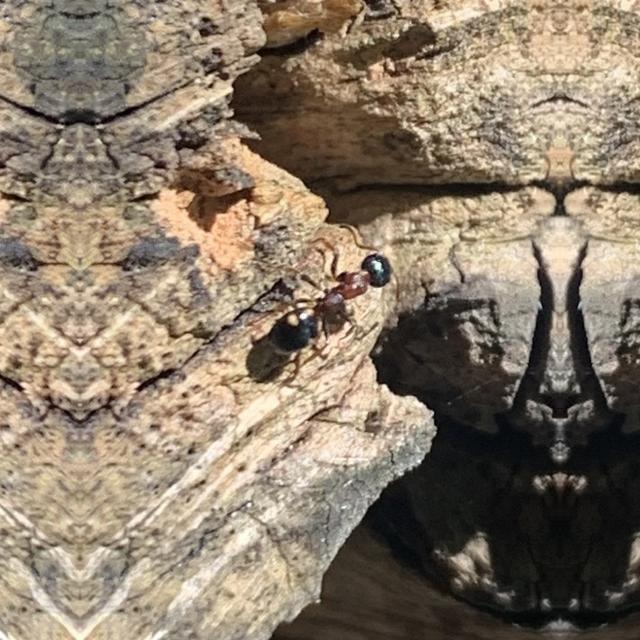Dolichoderus: (246, 212, 414, 390)
